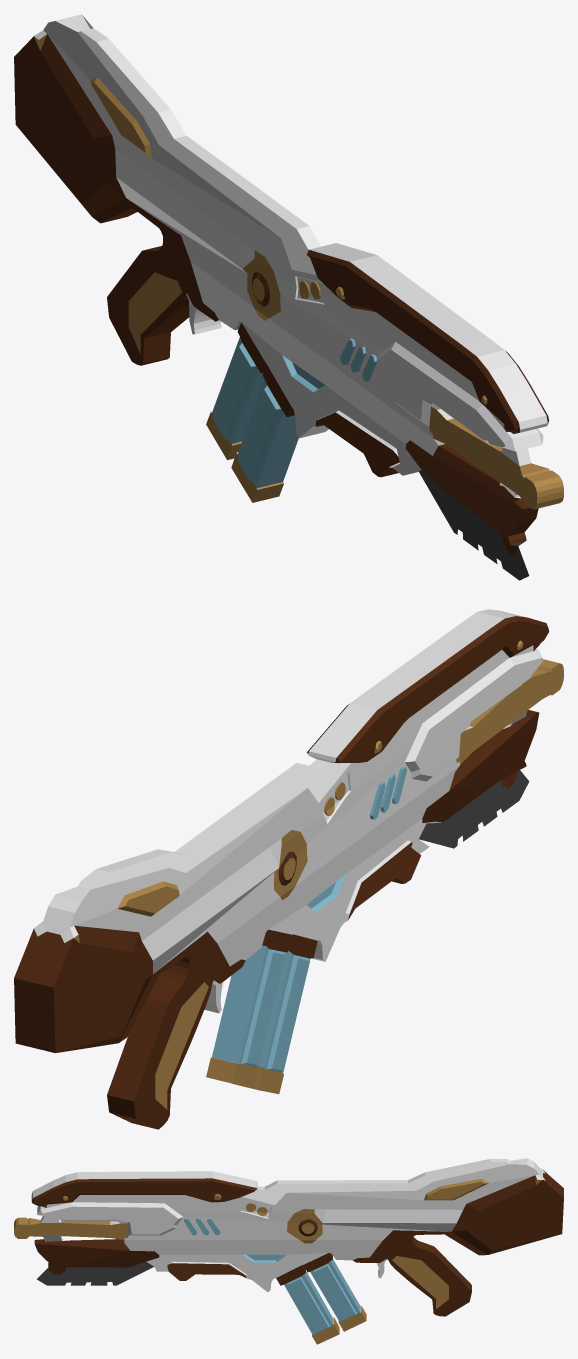
Rendered from ScifiShotgun.fbx.
The picture shows the model from 3 angles, top to bottom: view 1: azimuth 30°, elevation 25°; view 2: azimuth 150°, elevation 25°; view 3: azimuth 270°, elevation 25°; orthographic projection. The views are drawn at different scales.
Parts seen in each view (by area): view 1: Plane; view 2: Plane; view 3: Plane.
Part boxes in pixels (x1,y1,x2,y2): Plane: [14, 14, 563, 580]; Plane: [14, 609, 563, 1129]; Plane: [14, 1158, 563, 1344].
Size of the model in its own units: 22.16 by 168 by 464.
